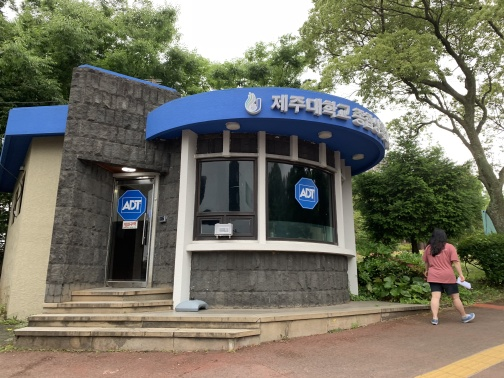Security Office: (12, 68, 392, 358)
